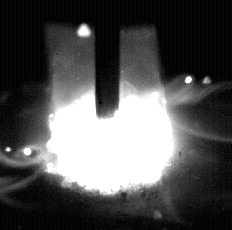arame: (95, 0, 122, 119)
poca: (47, 0, 176, 230)
